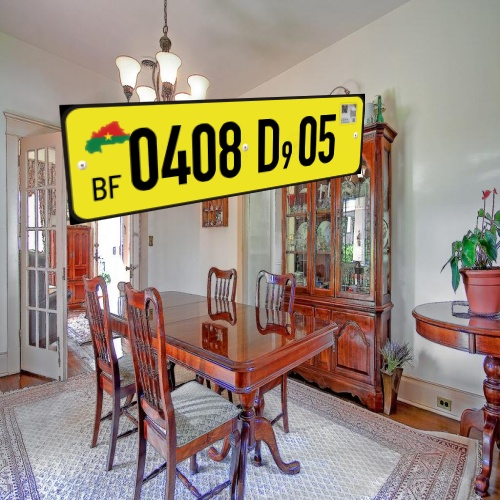plate: (54, 82, 376, 231)
